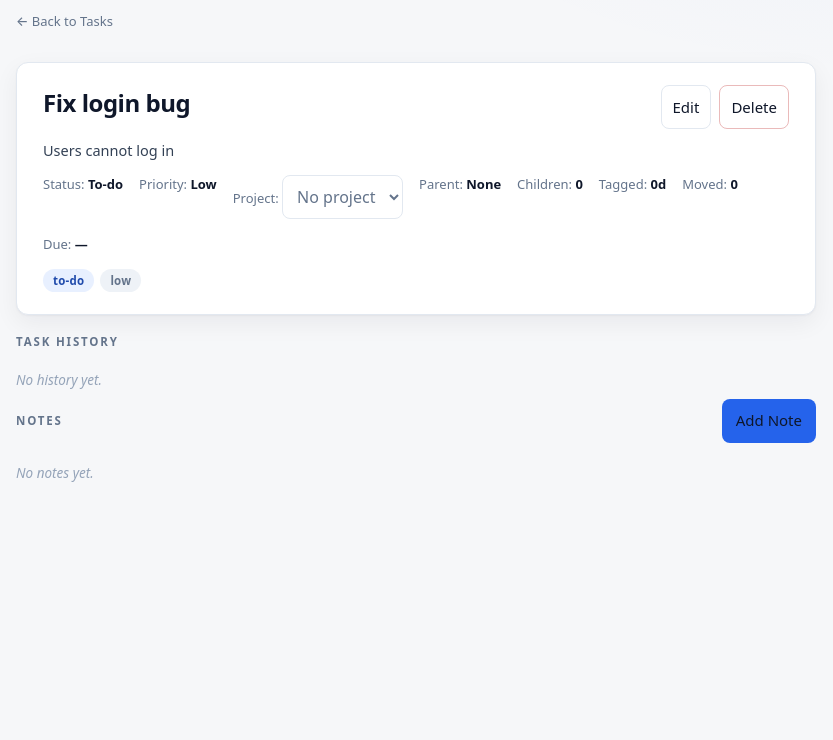
it: TaskDetailPage › TASK_REOPEN_PAST_DAY_NOT_ALLOWED error shows proper message
Click the button "Edit".
click(686, 107)  # box [660,85,711,129]
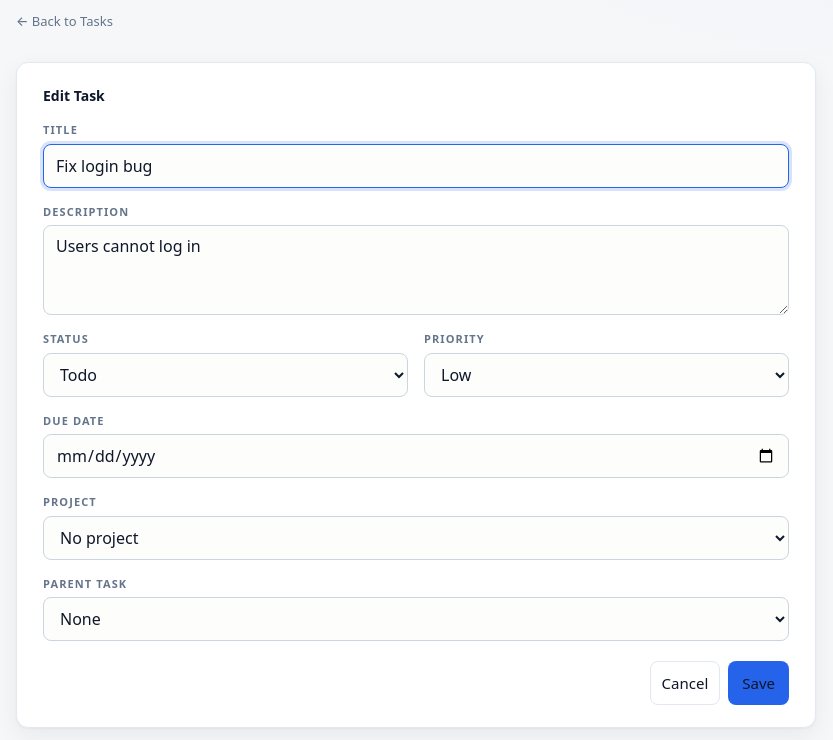
Click the button "Save".
click(759, 683)  # box [728,661,789,705]
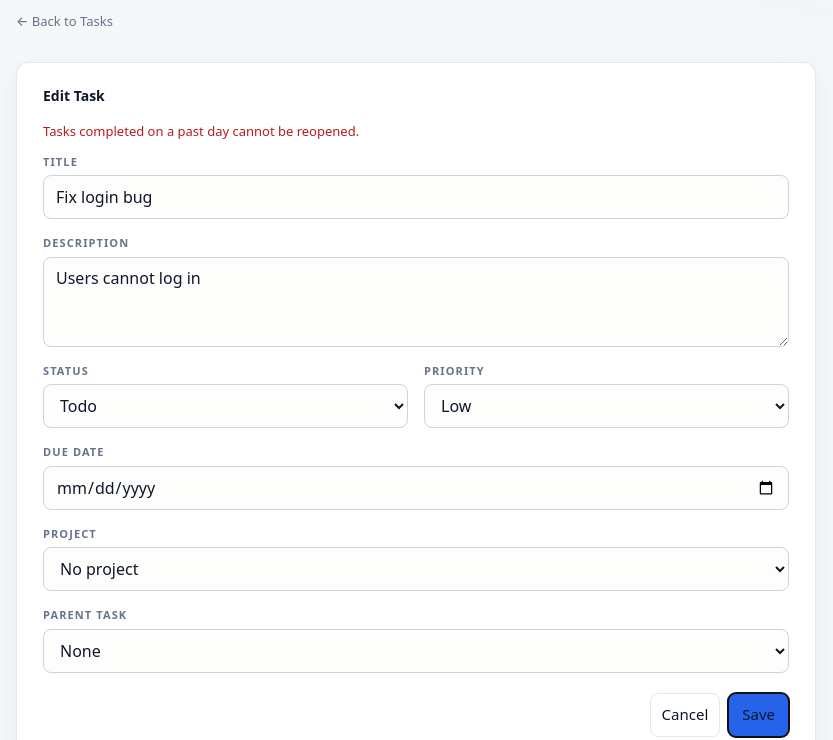
Now the text "Tasks completed on a past day cannot be reopened." is shown, box [43,122,359,140]
